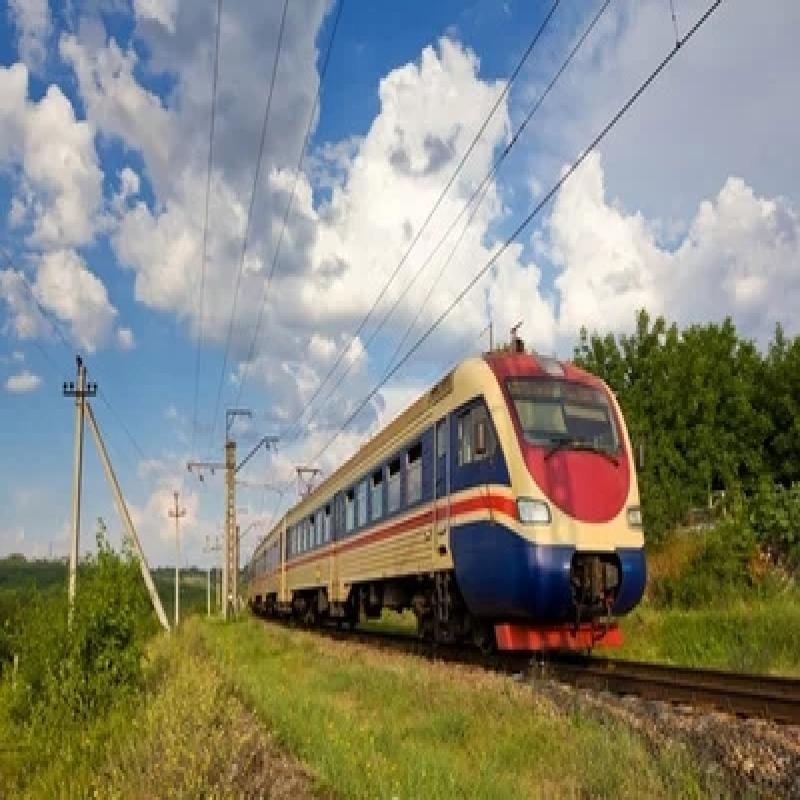train: (251, 323, 647, 666)
